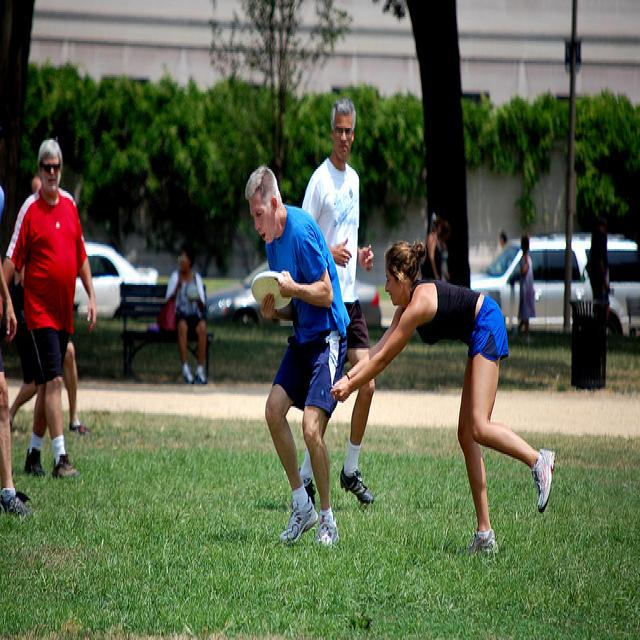Vehicle: (470, 232, 640, 348), (206, 259, 381, 329), (72, 241, 160, 323)
